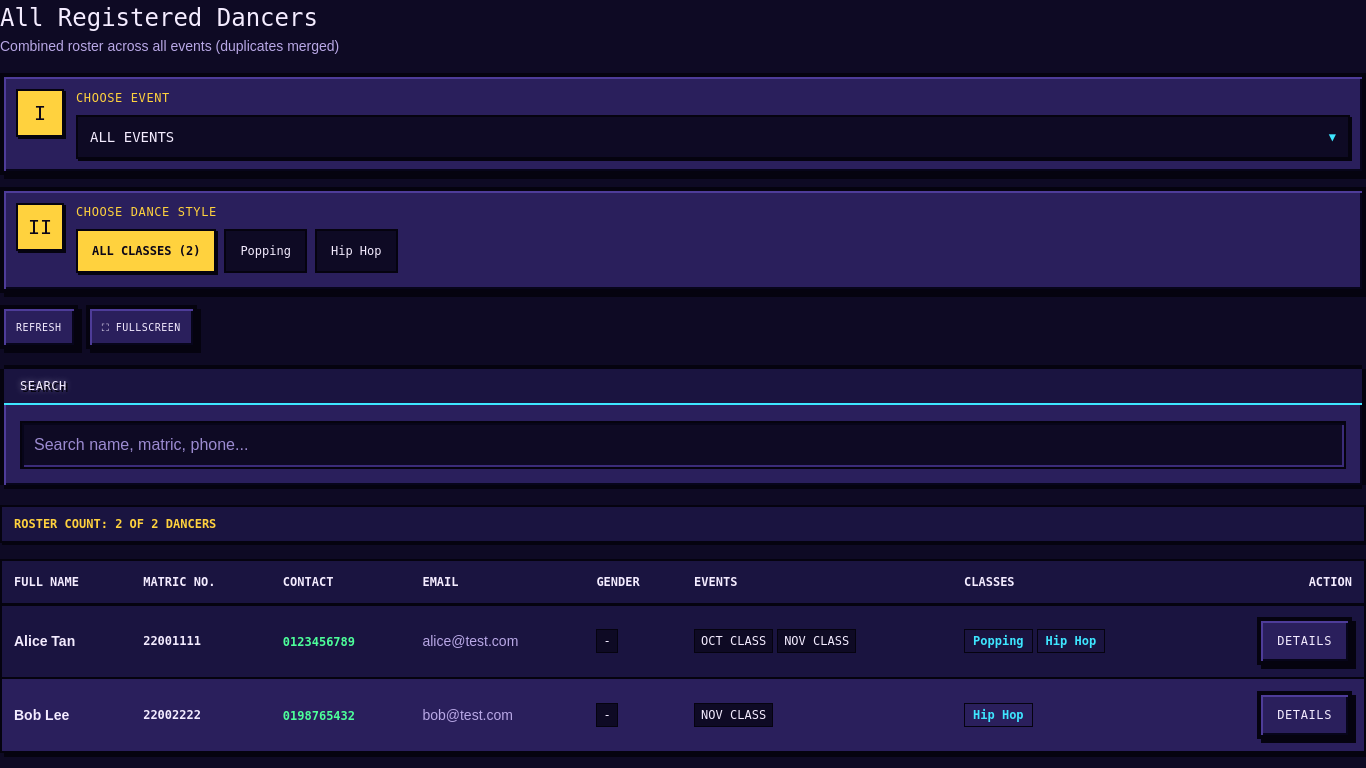
Test: MembersPage Component › combines and deduplicates dancers across events when isAll is true
This screenshot has width=1366, height=768.
Expected: the text "Alice Tan" is shown, [2,604,131,678]
Expected: the text "Bob Lee" is shown, [2,678,131,751]
// Clicking fullscreen toggles fullscreen class/state
Click the button "⛶ FULLSCREEN" at (141, 327), box [86,305,197,349]
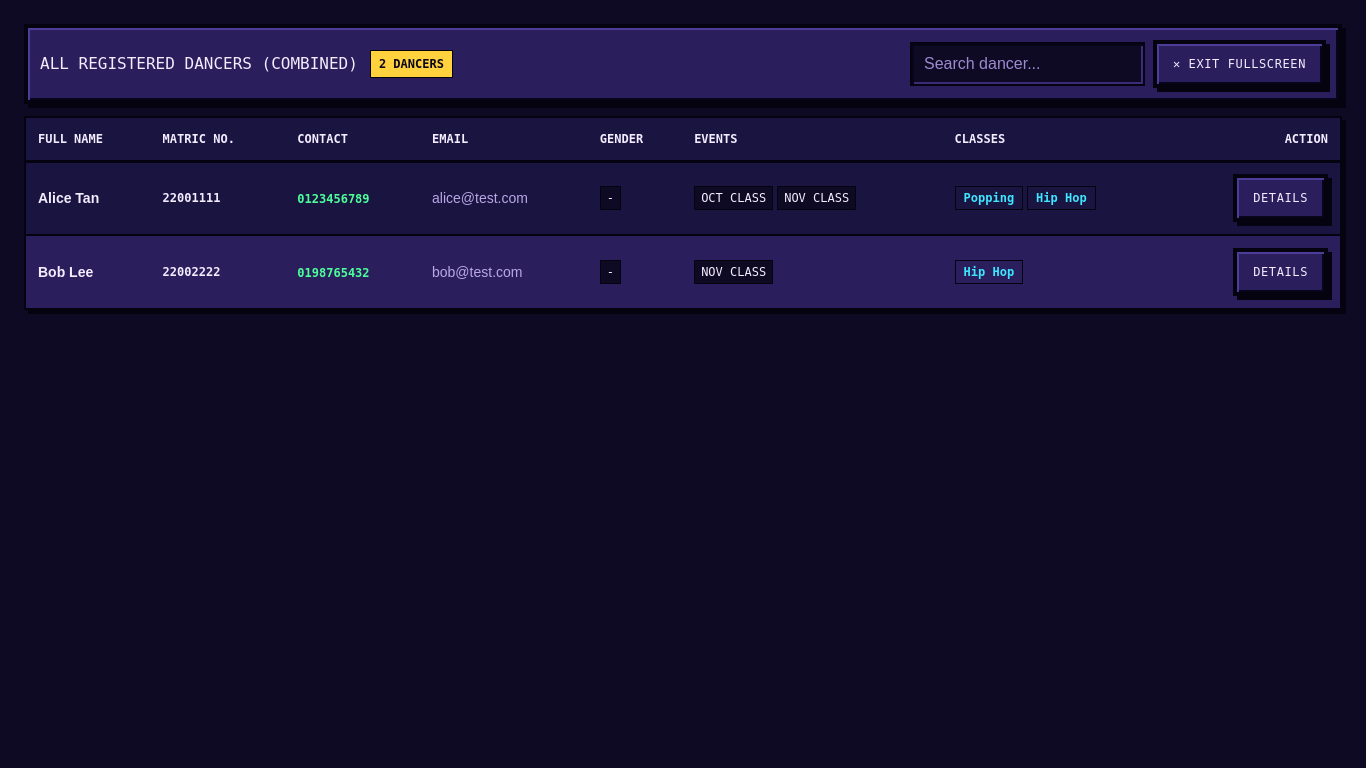
Result: the button "✕ EXIT FULLSCREEN" is shown at [1153,40,1326,88]
